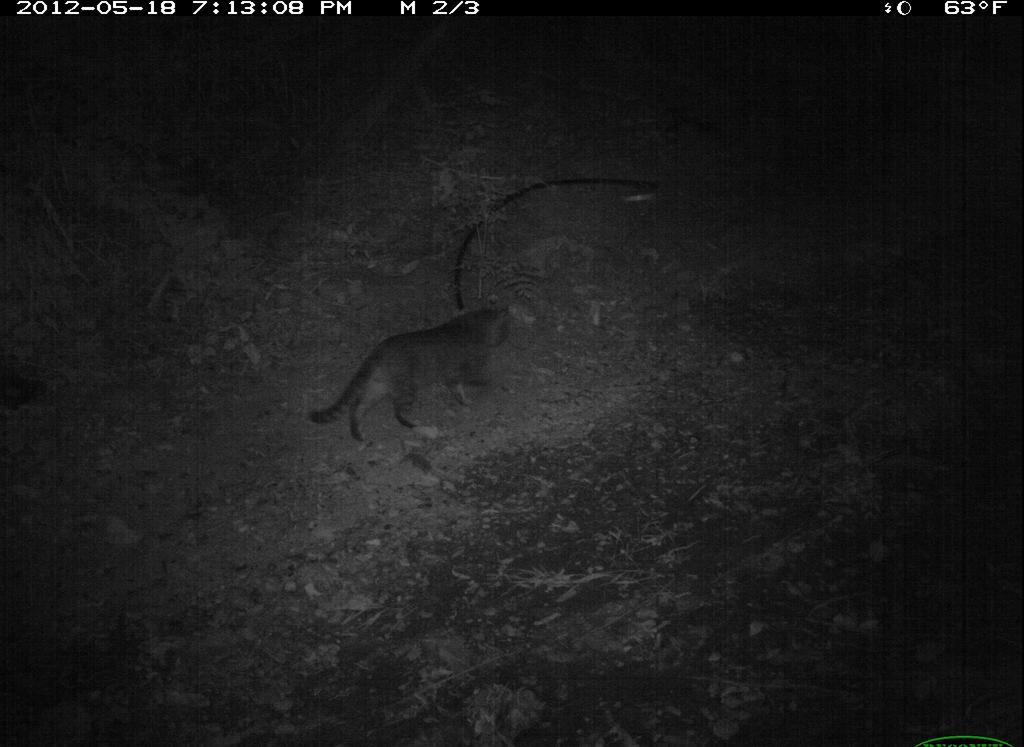cat: (301, 299, 516, 446)
